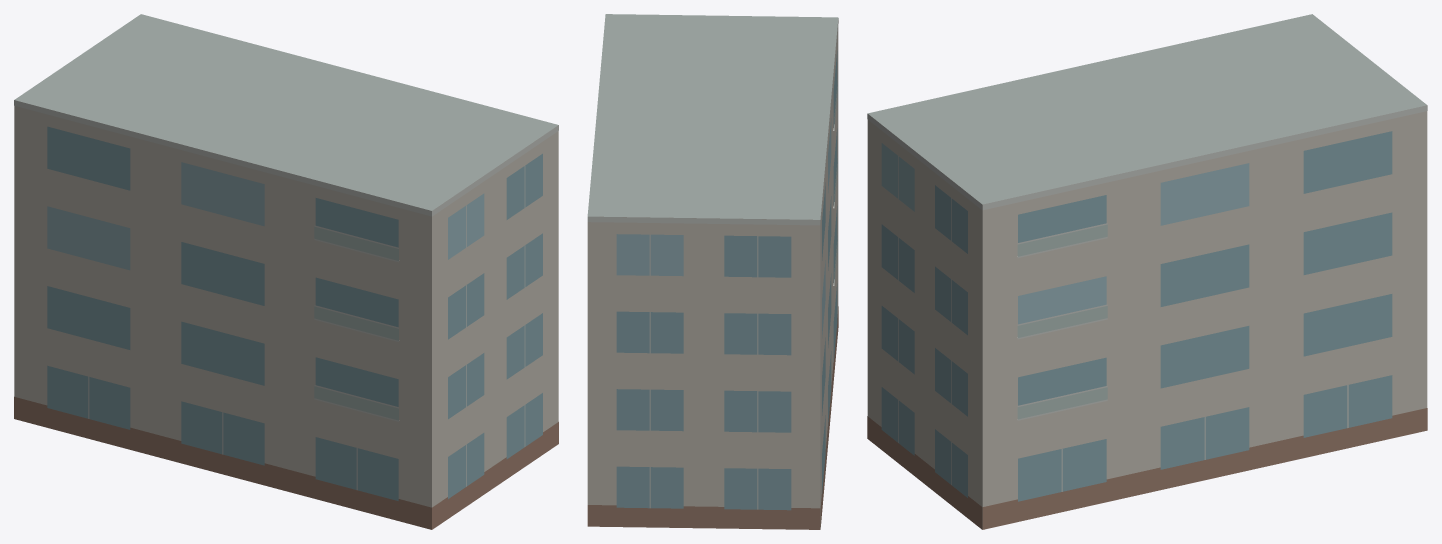
Rendered from survey-upis-32986032.glb.
The picture shows the model from 3 angles, left to right: view 1: azimuth 30°, elevation 25°; view 2: azimuth 150°, elevation 25°; view 3: azimuth 270°, elevation 25°; orthographic projection. The views are drawn at different scales.
Visible parts, largest first — view 1: survey-upis-32986032.tmp; view 2: survey-upis-32986032.tmp; view 3: survey-upis-32986032.tmp.
Part boxes in pixels (x1,y1,x2,y2): survey-upis-32986032.tmp: (14,14,558,529); survey-upis-32986032.tmp: (587,14,838,529); survey-upis-32986032.tmp: (867,14,1427,529).
Size of the model in its own units: 17.15 by 13.64 by 21.29.
